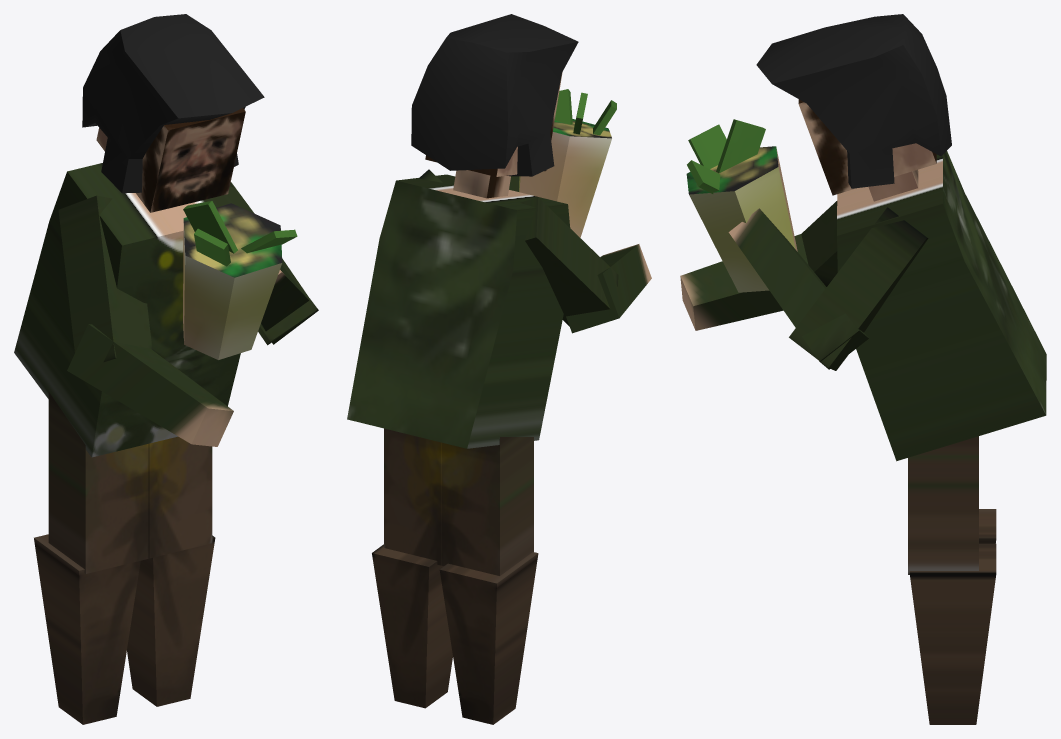
Rendered from HoboStatue.fbx.
The picture shows the model from 3 angles, left to right: view 1: azimuth 30°, elevation 25°; view 2: azimuth 150°, elevation 25°; view 3: azimuth 270°, elevation 25°; orthographic projection. The views are drawn at different scales.
Visible parts, largest first — view 1: pCube1, pCube12, pCube8, pCube10, polySurface5, pCube9, pCube7, pCube6, pCube2, pCube11, pCube5, polySurface8 (+3 smaller); view 2: pCube1, pCube12, pCube10, pCube8, pCube9, pCube11, pCube6, polySurface5, pCube7, pCube3, pCube2, polySurface7; view 3: pCube1, pCube12, pCube9, pCube11, pCube4, polySurface5, pCube5, pCube7, pCube2, pCube6, polySurface8, polySurface9 (+3 smaller).
Boxes of the visible parts, x1,y1,x2,y2 form: pCube1: (14,163,254,457); pCube12: (82,14,264,193); pCube8: (34,534,140,724); pCube10: (48,392,148,573); polySurface5: (183,203,282,359); pCube9: (127,535,215,706); pCube7: (67,324,233,446); pCube6: (58,195,152,362); pCube2: (96,108,245,212); pCube11: (148,436,212,558); pCube5: (260,265,318,344); polySurface8: (183,201,237,253); pCube1: (347,174,570,448); pCube12: (411,14,578,176); pCube10: (442,437,533,575); pCube8: (439,552,538,724); pCube9: (372,544,452,708); pCube11: (384,428,441,565); pCube6: (520,197,618,326); polySurface5: (519,119,611,237); pCube7: (566,244,651,333); pCube3: (453,170,510,198); pCube2: (425,72,562,176); polySurface7: (554,89,572,124); pCube1: (837,151,1046,461); pCube12: (756,14,951,188); pCube9: (909,543,996,724); pCube11: (908,436,978,574); pCube4: (789,207,928,370); polySurface5: (686,146,797,292); pCube5: (728,208,868,369); pCube7: (680,234,808,330); pCube2: (798,99,936,195); pCube6: (801,201,837,286); polySurface8: (716,119,765,173); polySurface9: (688,124,726,168).
Size of the model in its own units: 2.74 by 7.57 by 3.72.
